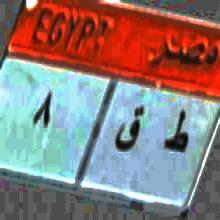8: (34, 86, 53, 132)
Taa: (162, 103, 190, 164)
qaaf: (113, 98, 145, 165)
